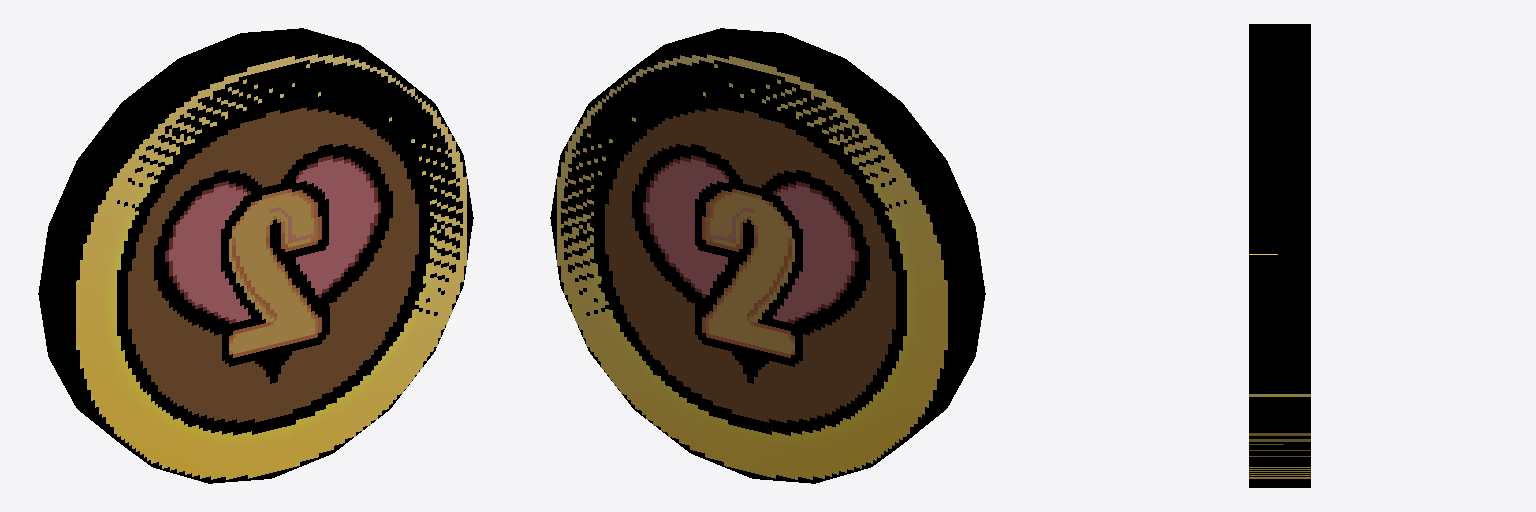
3 renders of one model, left to right at view 1: azimuth 30°, elevation 25°; view 2: azimuth 150°, elevation 25°; view 3: azimuth 270°, elevation 25°, orthographic.
Size of the model in its own units: 1.19 by 1.19 by 0.157.
1 materials, 1 textured.